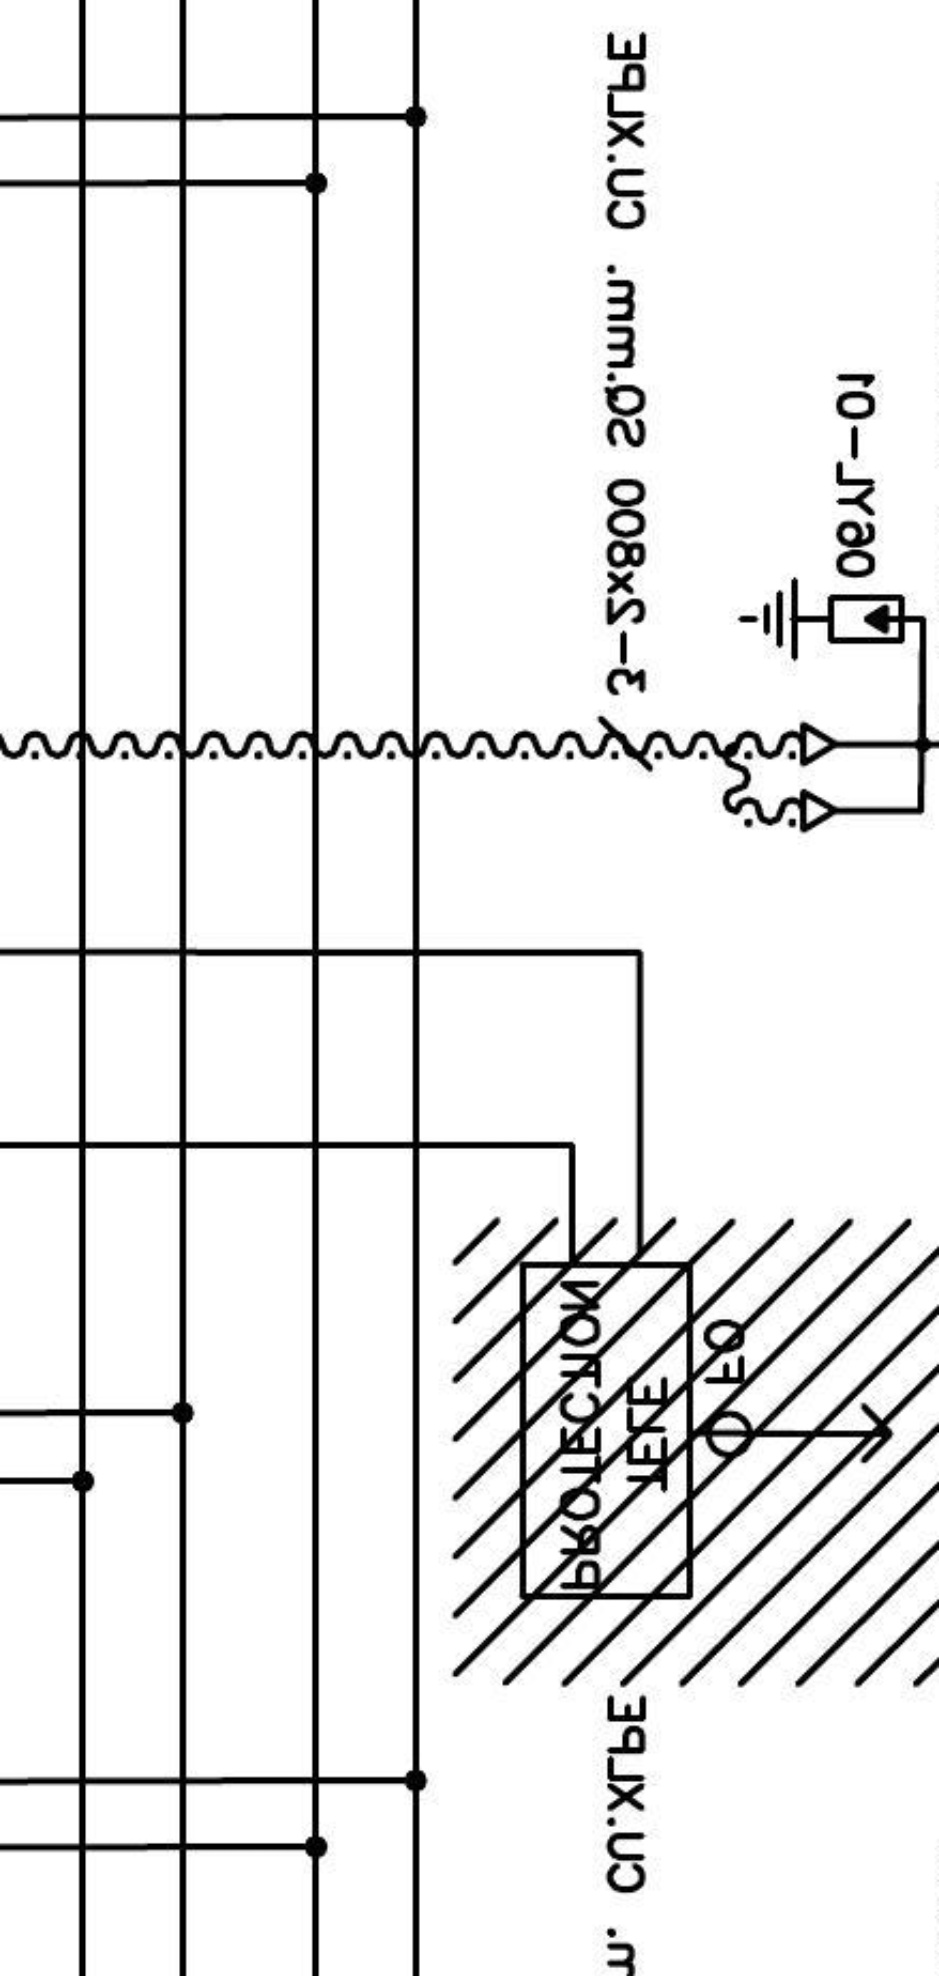115_la: (736, 576, 907, 663)
tele_protection: (513, 1256, 698, 1605)
terminator_double: (797, 718, 926, 834)
